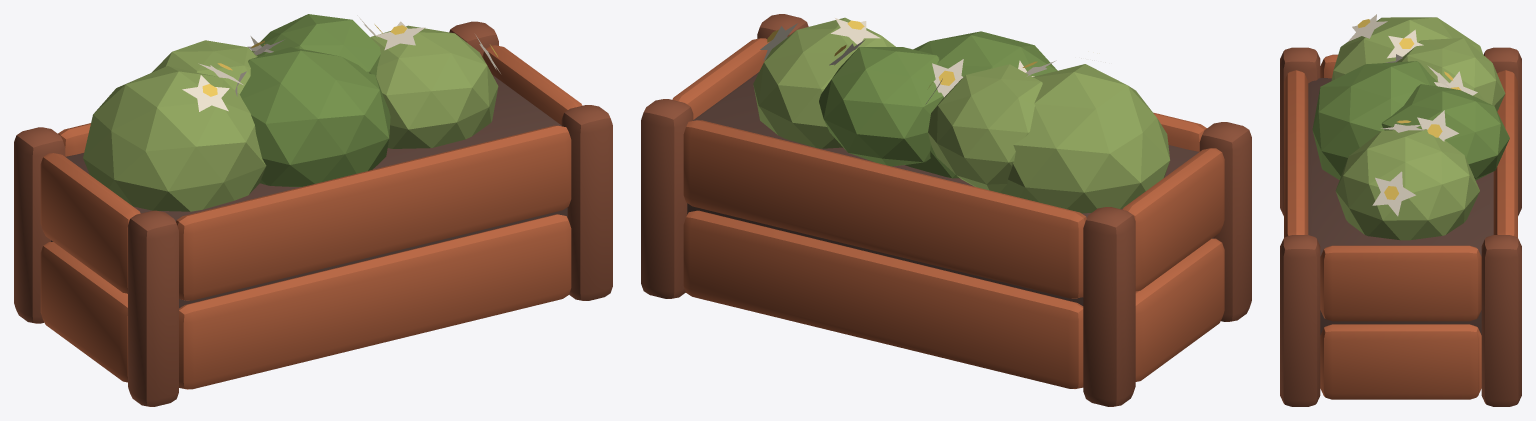
Rendered from Planter_Box.glb.
3 renders of one model, left to right at view 1: azimuth 30°, elevation 25°; view 2: azimuth 150°, elevation 25°; view 3: azimuth 270°, elevation 25°, orthographic. The views are drawn at different scales.
Parts seen in each view (by area): view 1: Planter_Box; view 2: Planter_Box; view 3: Planter_Box.
Part boxes in pixels (x1,y1,x2,y2): Planter_Box: [14, 14, 612, 406]; Planter_Box: [641, 14, 1251, 406]; Planter_Box: [1280, 14, 1521, 406].
Bounding box in the file's own units: 1.2 × 0.6471 × 0.6.
